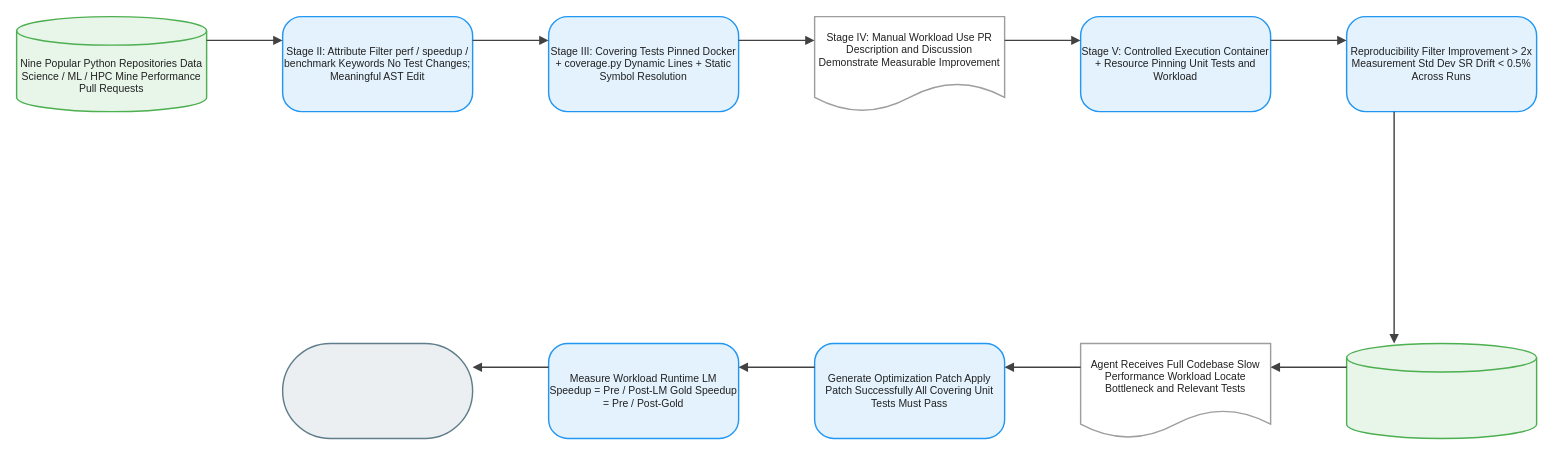
Image size: 1554x456. Some labels were removed from this diagram. Each missing label, with the box of its shape:
Speedup Ratio SR = LM Speedup / Gold Speedup Aggregate by Harmonic Mean: (281, 342, 473, 439)
SWE-fficiency 498 Optimization Tasks Expert Patch + Workload + Covering Tests: (1345, 342, 1537, 439)
